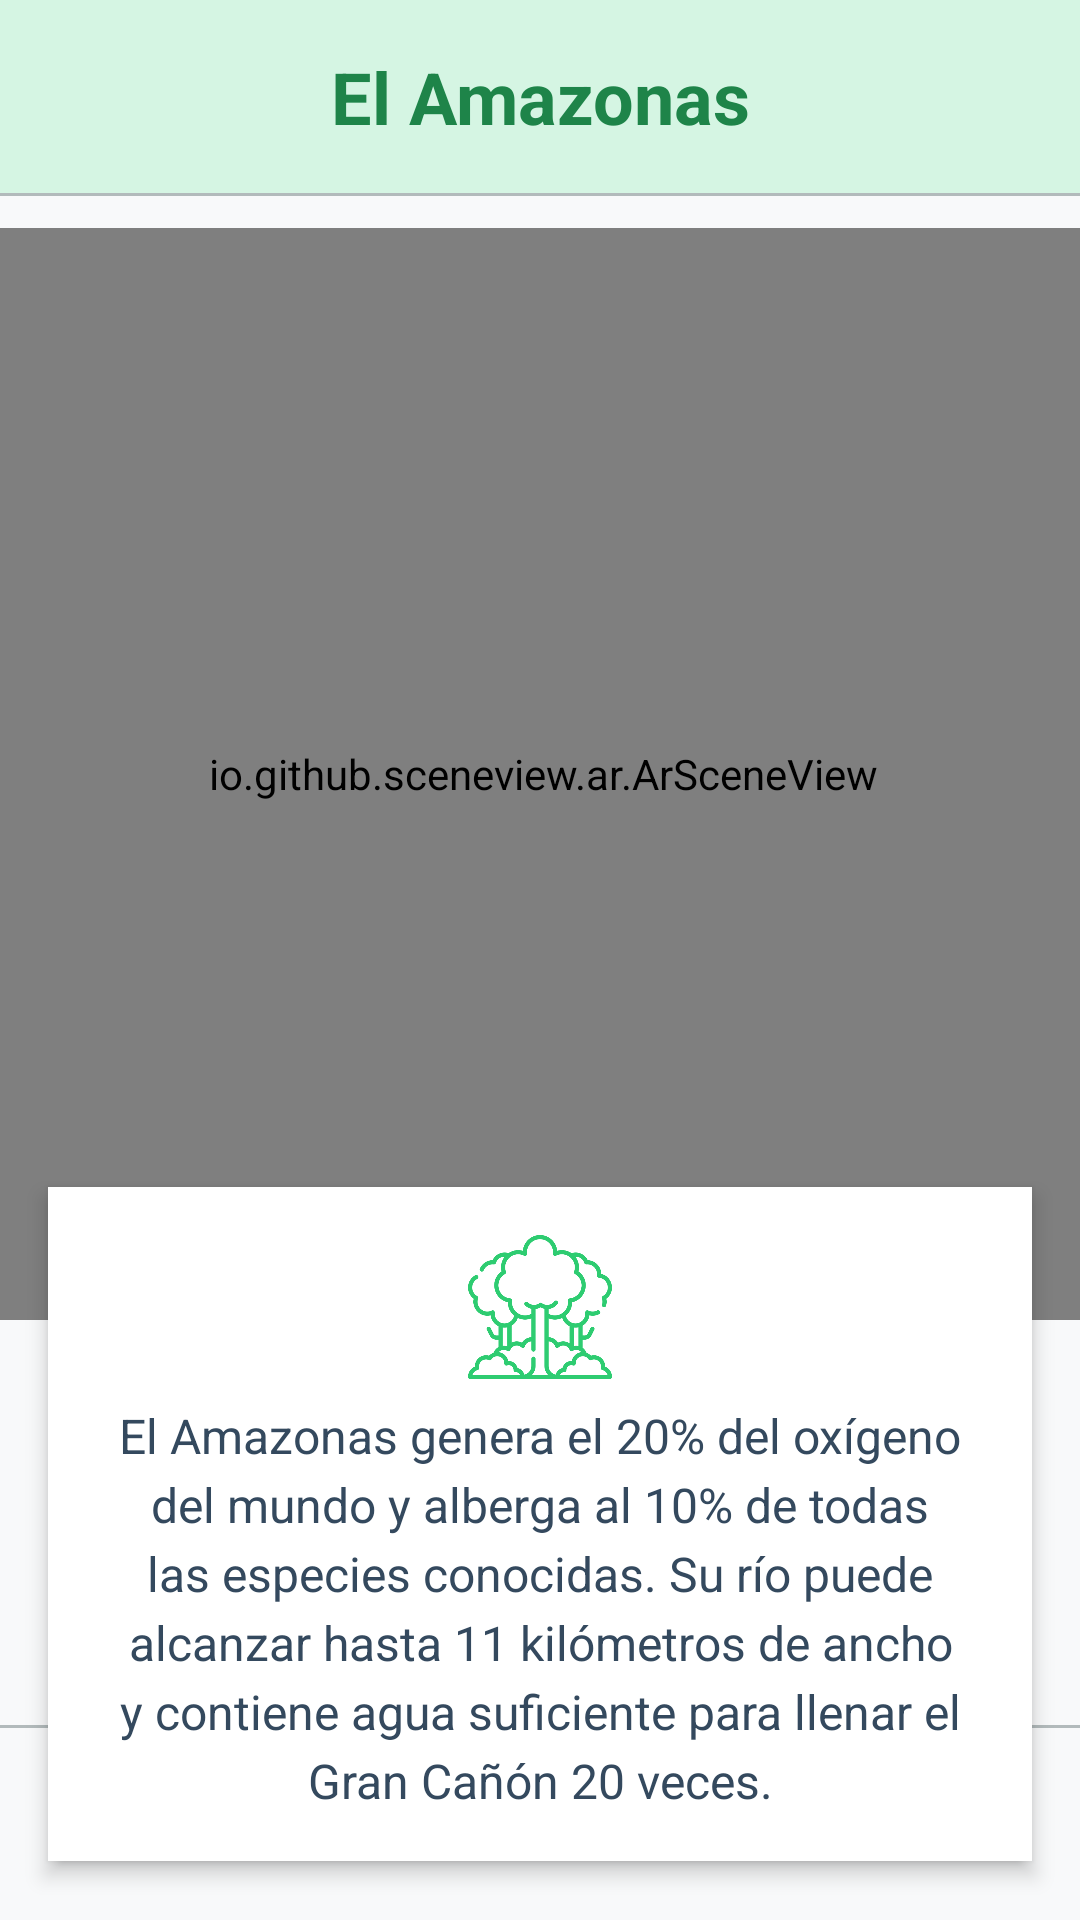

Point at icon controls on the screen. Image size 1080px×1920px, points as (x,y).
Icono de amazonas: (540,1307)
